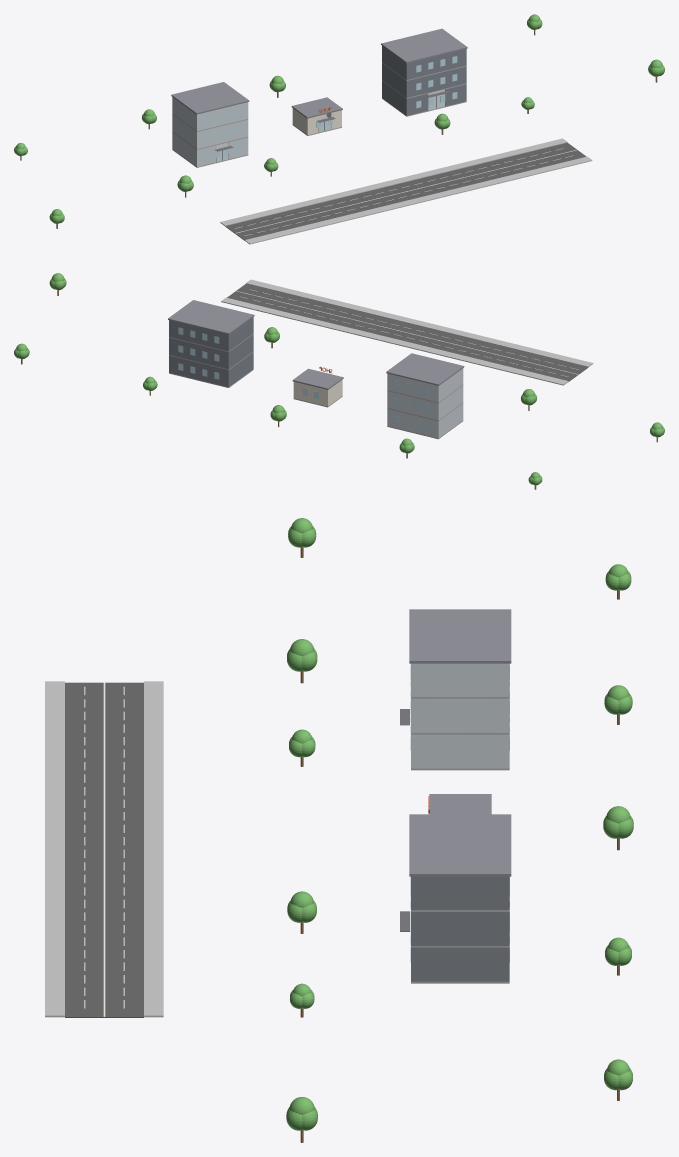
The model's file is combined_scene.gltf.
3 renders of one model, top to bottom at view 1: azimuth 30°, elevation 25°; view 2: azimuth 150°, elevation 25°; view 3: azimuth 270°, elevation 25°, orthographic. The views are drawn at different scales.
Parts seen in each view (by area): view 1: Road_Surface, Sidewalk_-5.0, Sidewalk_5.0, Modern_Building_Roof, Office_Building_Roof, Floor_2_Wall_Front.001, Floor_3_Wall_Front.001, Floor_2_Wall_Front, Floor_3_Wall_Front, Shop_Building_Roof, Floor_1_Wall_Left, Floor_2_Wall_Left (+7 smaller); view 2: Road_Surface, Sidewalk_5.0, Sidewalk_-5.0, Modern_Building_Roof, Office_Building_Roof, Floor_1_Wall_Back.002, Floor_2_Wall_Back.001, Floor_3_Wall_Back.001, Floor_1_Wall_Back, Floor_2_Wall_Back, Floor_3_Wall_Back, Shop_Building_Roof (+8 smaller); view 3: Road_Surface, Sidewalk_-5.0, Sidewalk_5.0, Modern_Building_Roof, Office_Building_Roof, Floor_1_Wall_Right, Floor_2_Wall_Right, Floor_1_Wall_Right.002, Floor_2_Wall_Right.001, Floor_3_Wall_Right, Floor_3_Wall_Right.001, Shop_Building_Roof (+1 smaller).
Boxes of the visible parts, left/top/right/bottom form: Road_Surface: left=225, top=142, right=586, bottom=240; Sidewalk_-5.0: left=245, top=156, right=592, bottom=244; Sidewalk_5.0: left=220, top=138, right=567, bottom=226; Modern_Building_Roof: left=381, top=28, right=467, bottom=63; Office_Building_Roof: left=171, top=82, right=249, bottom=114; Floor_2_Wall_Front.001: left=406, top=66, right=466, bottom=97; Floor_3_Wall_Front.001: left=406, top=49, right=466, bottom=79; Floor_2_Wall_Front: left=196, top=120, right=248, bottom=148; Floor_3_Wall_Front: left=196, top=102, right=248, bottom=130; Shop_Building_Roof: left=291, top=97, right=342, bottom=118; Floor_1_Wall_Left: left=172, top=132, right=196, bottom=166; Floor_2_Wall_Left: left=172, top=114, right=196, bottom=148; Road_Surface: left=227, top=284, right=588, bottom=381; Sidewalk_5.0: left=221, top=297, right=568, bottom=385; Sidewalk_-5.0: left=246, top=279, right=593, bottom=367; Modern_Building_Roof: left=168, top=300, right=254, bottom=334; Office_Building_Roof: left=386, top=353, right=464, bottom=385; Floor_1_Wall_Back.002: left=169, top=355, right=229, bottom=387; Floor_2_Wall_Back.001: left=169, top=338, right=229, bottom=369; Floor_3_Wall_Back.001: left=169, top=320, right=229, bottom=351; Floor_1_Wall_Back: left=387, top=409, right=438, bottom=438; Floor_2_Wall_Back: left=387, top=391, right=438, bottom=420; Floor_3_Wall_Back: left=387, top=373, right=438, bottom=402; Shop_Building_Roof: left=292, top=368, right=343, bottom=389; Road_Surface: left=65, top=682, right=143, bottom=1017; Sidewalk_-5.0: left=45, top=681, right=64, bottom=1017; Sidewalk_5.0: left=144, top=681, right=163, bottom=1017; Modern_Building_Roof: left=409, top=814, right=511, bottom=876; Office_Building_Roof: left=409, top=609, right=511, bottom=663; Floor_1_Wall_Right: left=412, top=734, right=508, bottom=768; Floor_2_Wall_Right: left=412, top=698, right=508, bottom=732; Floor_1_Wall_Right.002: left=412, top=947, right=508, bottom=981; Floor_2_Wall_Right.001: left=412, top=912, right=508, bottom=945; Floor_3_Wall_Right: left=412, top=663, right=508, bottom=696; Floor_3_Wall_Right.001: left=412, top=876, right=508, bottom=909; Shop_Building_Roof: left=429, top=794, right=491, bottom=814.
Size of the model in its own units: 143 by 12.4 by 59.55.
